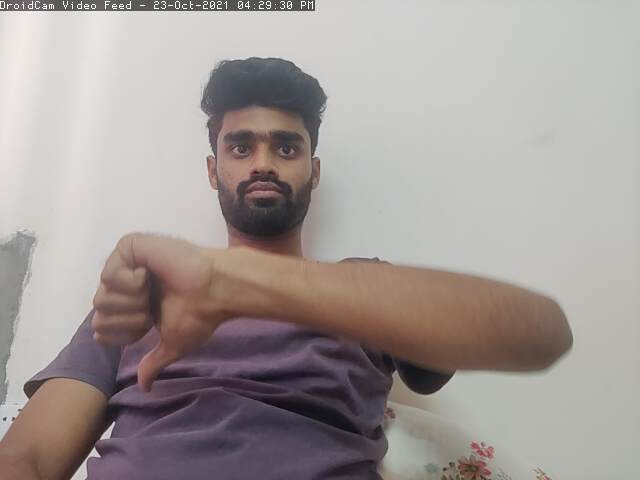ThumbsDown: (89, 226, 207, 393)
